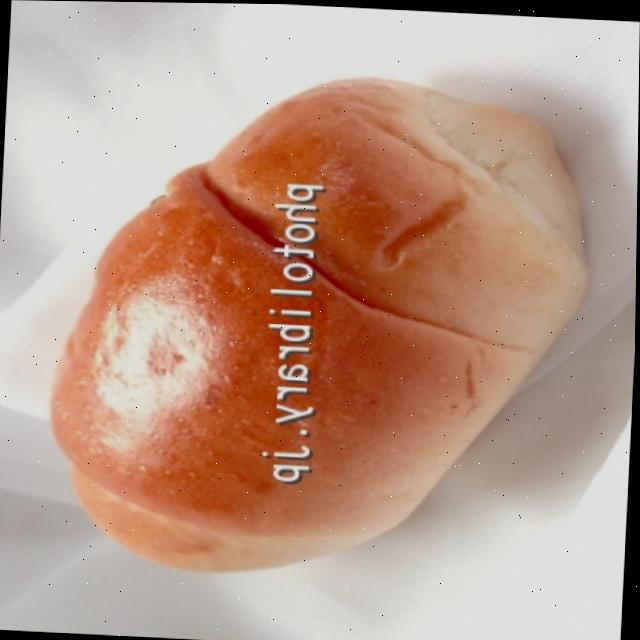面包点心: (25, 44, 601, 602)
